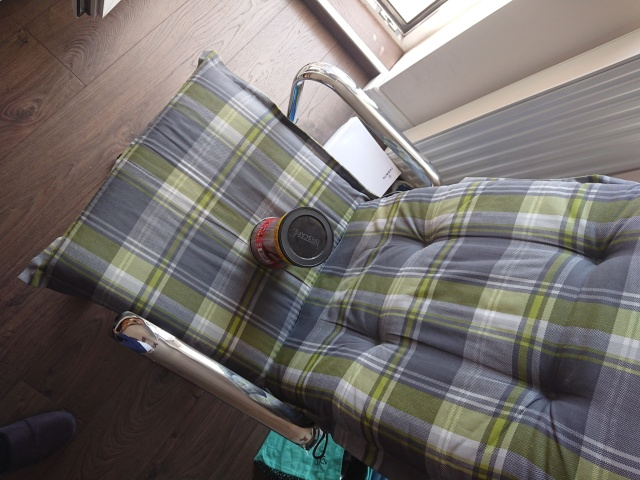Nescafe Classic 225g: (246, 204, 337, 271)
